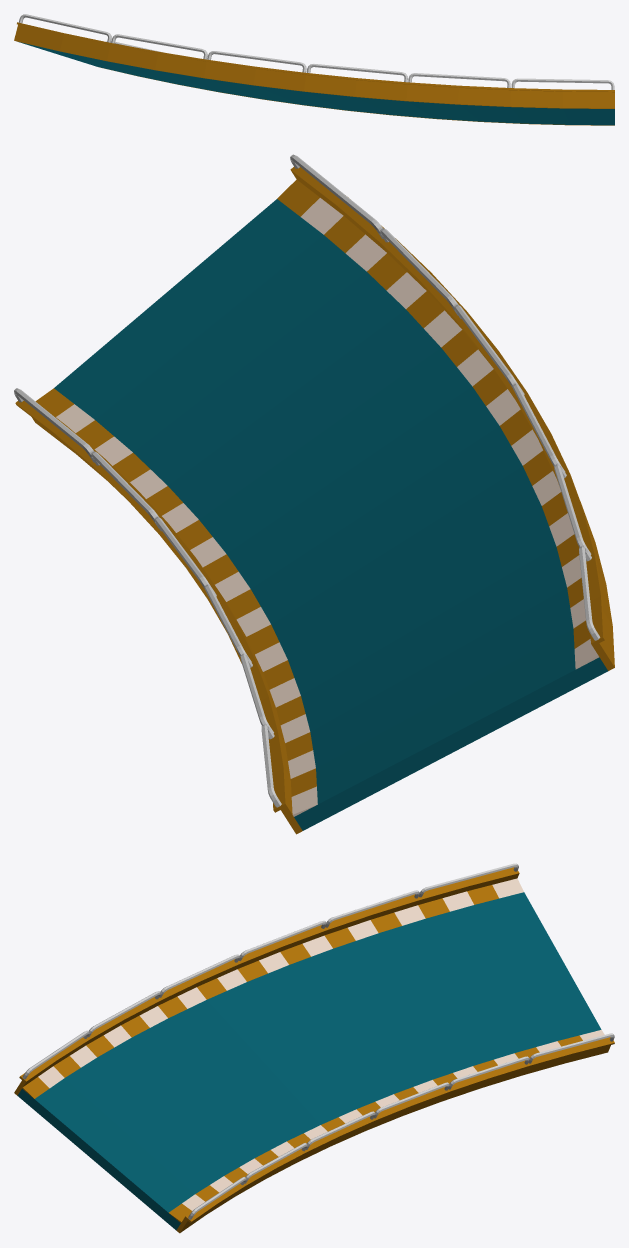
Rendered from bankedLeft-30-30_l.FBX.
The picture shows the model from 3 angles, top to bottom: view 1: azimuth 30°, elevation 25°; view 2: azimuth 150°, elevation 25°; view 3: azimuth 270°, elevation 25°; orthographic projection. The views are drawn at different scales.
Parts seen in each view (by area): view 1: wall_r, bankedLeft-30-30_l, wall_l; view 2: bankedLeft-30-30_l, curbs_r, curbs_l, wall_r, wall_l; view 3: bankedLeft-30-30_l, curbs_r, wall_r, wall_l, curbs_l.
Boxes of the visible parts, x1,y1,x2,y2 form: wall_r: (14,14,614,108); bankedLeft-30-30_l: (19,42,614,125); wall_l: (101,41,614,125); bankedLeft-30-30_l: (54,199,607,830); curbs_r: (277,179,598,669); curbs_l: (35,388,317,816); wall_r: (290,154,614,670); wall_l: (14,388,302,834); bankedLeft-30-30_l: (17,892,601,1230); curbs_r: (22,878,523,1098); wall_r: (14,863,519,1095); wall_l: (176,1033,614,1233); curbs_l: (169,1030,604,1222).
Size of what is drawn, in the model's own units: 544 by 126 by 544.
